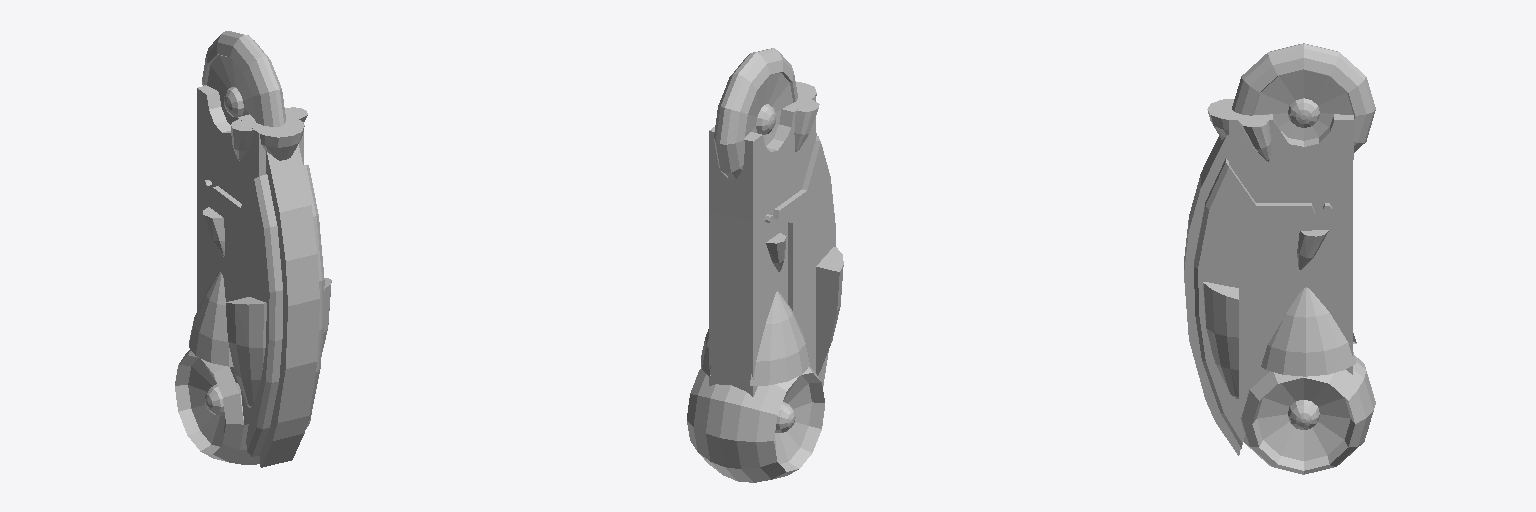
File: Tron.obj
3 views of the same model, side by side, from view 1: azimuth 30°, elevation 25°; view 2: azimuth 150°, elevation 25°; view 3: azimuth 270°, elevation 25° (orthographic).
Visible parts, largest first — view 1: default; view 2: default; view 3: default.
Part boxes in pixels (x1,y1,x2,y2): default: (175, 31, 331, 467); default: (687, 48, 843, 482); default: (1184, 43, 1375, 474).
Bounding box in the file's own units: 2.52 × 10 × 4.1.